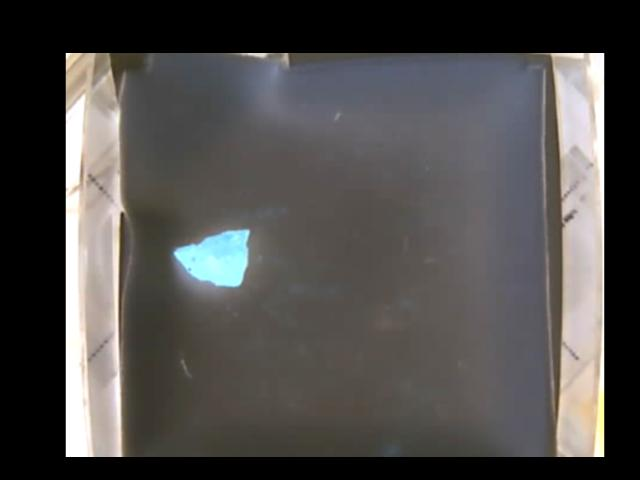Brisk: (169, 228, 250, 283)
